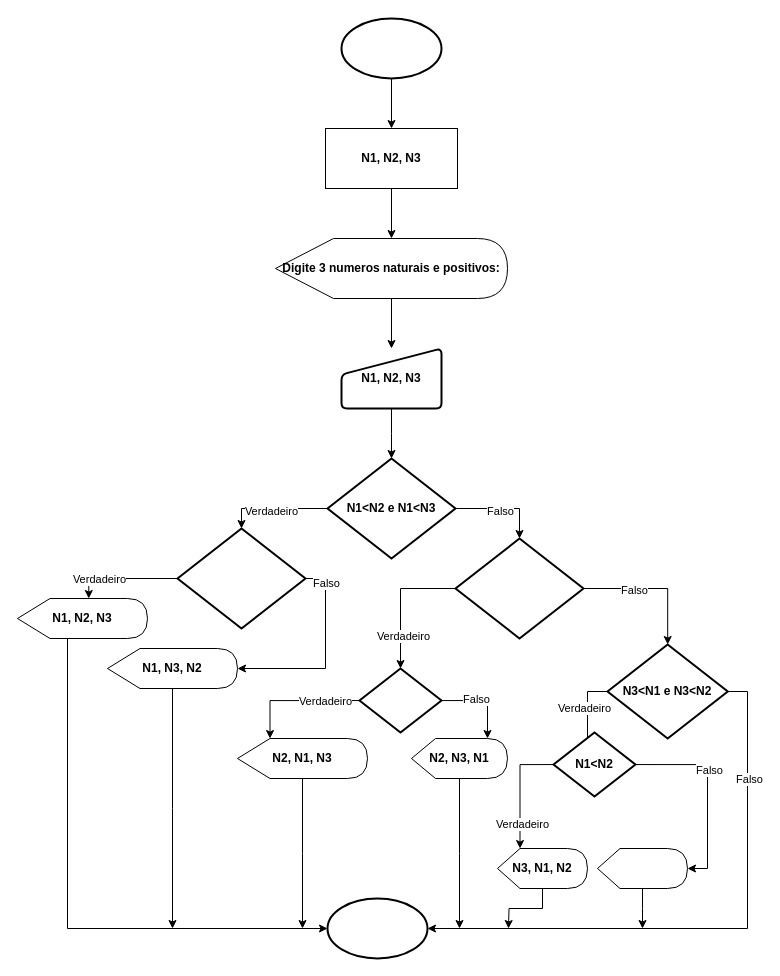
Image size: 780x976. Some labels were removed from this diagram. The box of each missing label's shape, as (x1, y1, x2, y2) in pixels:
FIM: (326, 897, 428, 959)
INÍCIO: (340, 17, 442, 79)
N1<N3: (358, 667, 442, 733)
N2<N1 e N2<N3: (454, 537, 584, 639)
N2<N3: (176, 527, 306, 629)
N3, N2, N1: (596, 848, 688, 888)
